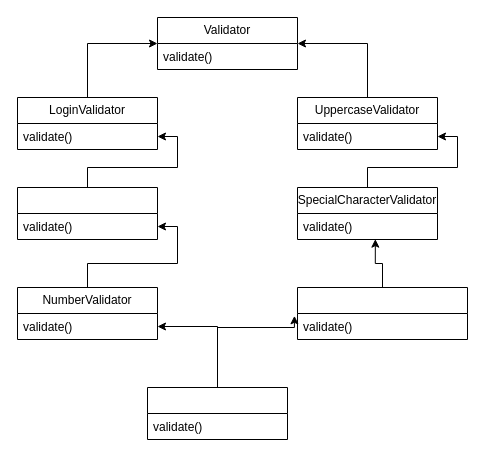
Image size: 485x460. Some labels were removed from this diagram. Each missing label, with the box of its shape:
ConsecutiveNumbersValidator: (296, 286, 468, 340)
LengthValidator: (146, 386, 288, 440)
LowercaseValidator: (16, 186, 158, 240)
